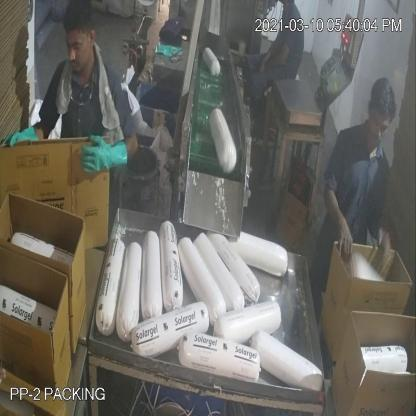glove: (72, 126, 136, 184), (260, 38, 290, 78)
no_glove: (320, 176, 356, 258)
